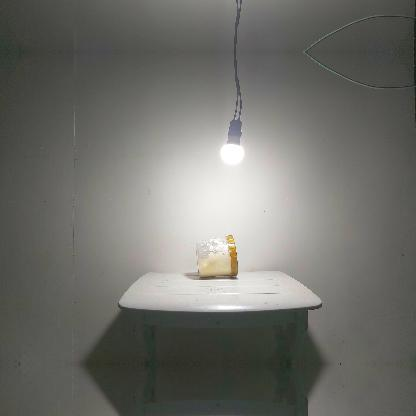Lady-s-Choice: (194, 233, 238, 278)
